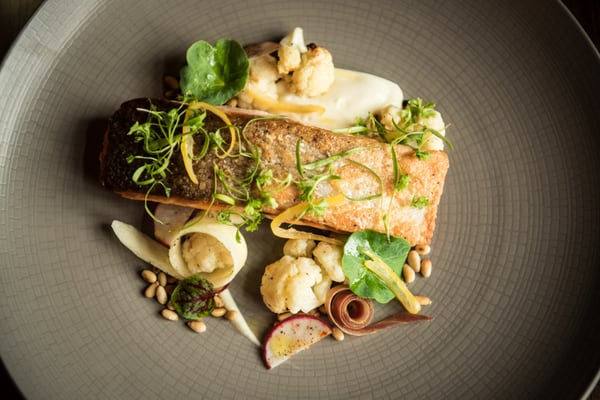curry: (9, 0, 599, 390)
